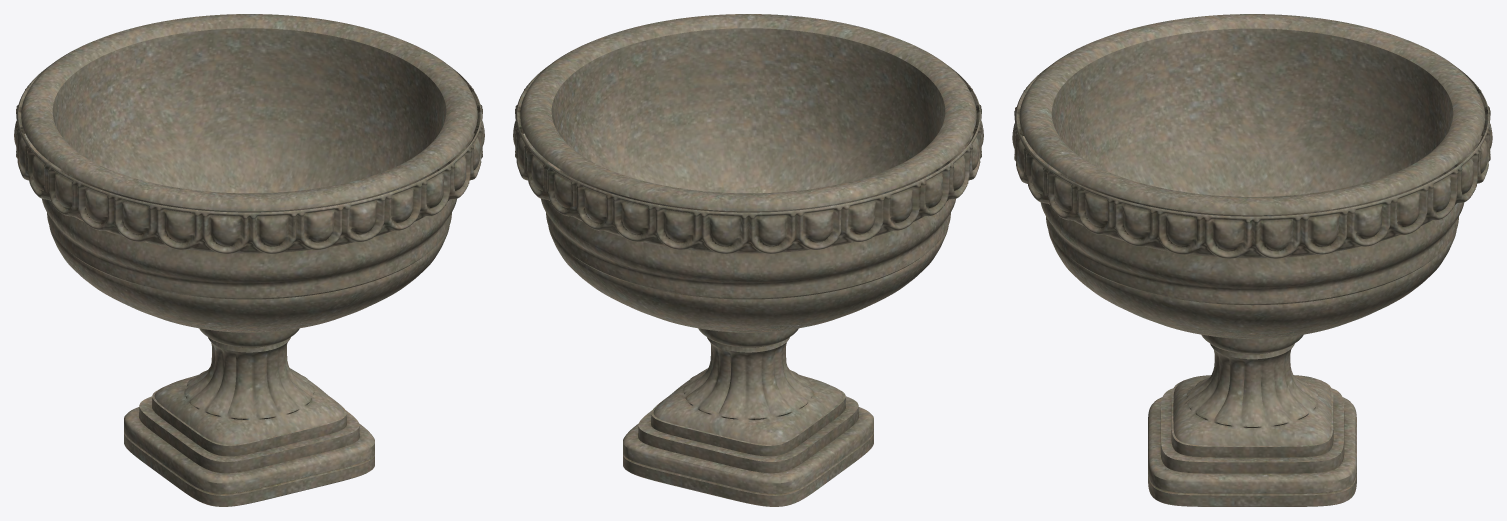
File: stone-pedestal-planter.glb
The picture shows the model from 3 angles, left to right: view 1: azimuth 30°, elevation 25°; view 2: azimuth 150°, elevation 25°; view 3: azimuth 270°, elevation 25°; orthographic projection.
Parts seen in each view (by area): view 1: urn; view 2: urn; view 3: urn.
Boxes of the visible parts, bbox=[...] form: urn: bbox=[14, 14, 484, 506]; urn: bbox=[513, 14, 983, 506]; urn: bbox=[1012, 14, 1492, 506].
Size of the model in its own units: 0.5904 by 0.484 by 0.5923.
Materials: 1 (1 with a texture image).
